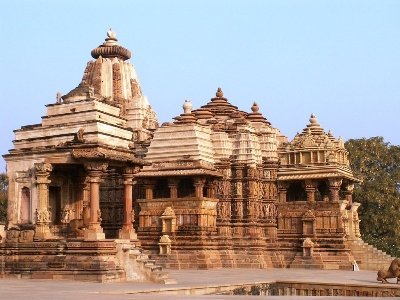amalaka: (83, 40, 137, 66)
mandapa: (33, 141, 136, 240), (270, 159, 366, 215), (143, 162, 226, 206)
